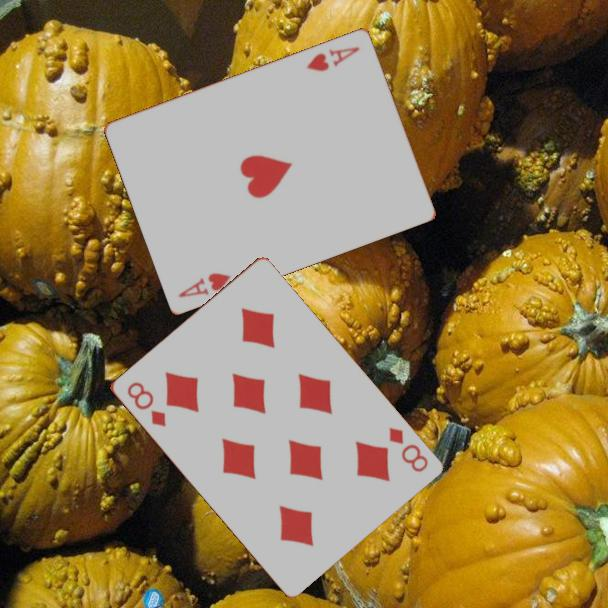d08: (123, 378, 169, 430), (385, 423, 431, 475)
h01: (303, 43, 363, 74), (175, 269, 234, 300)
